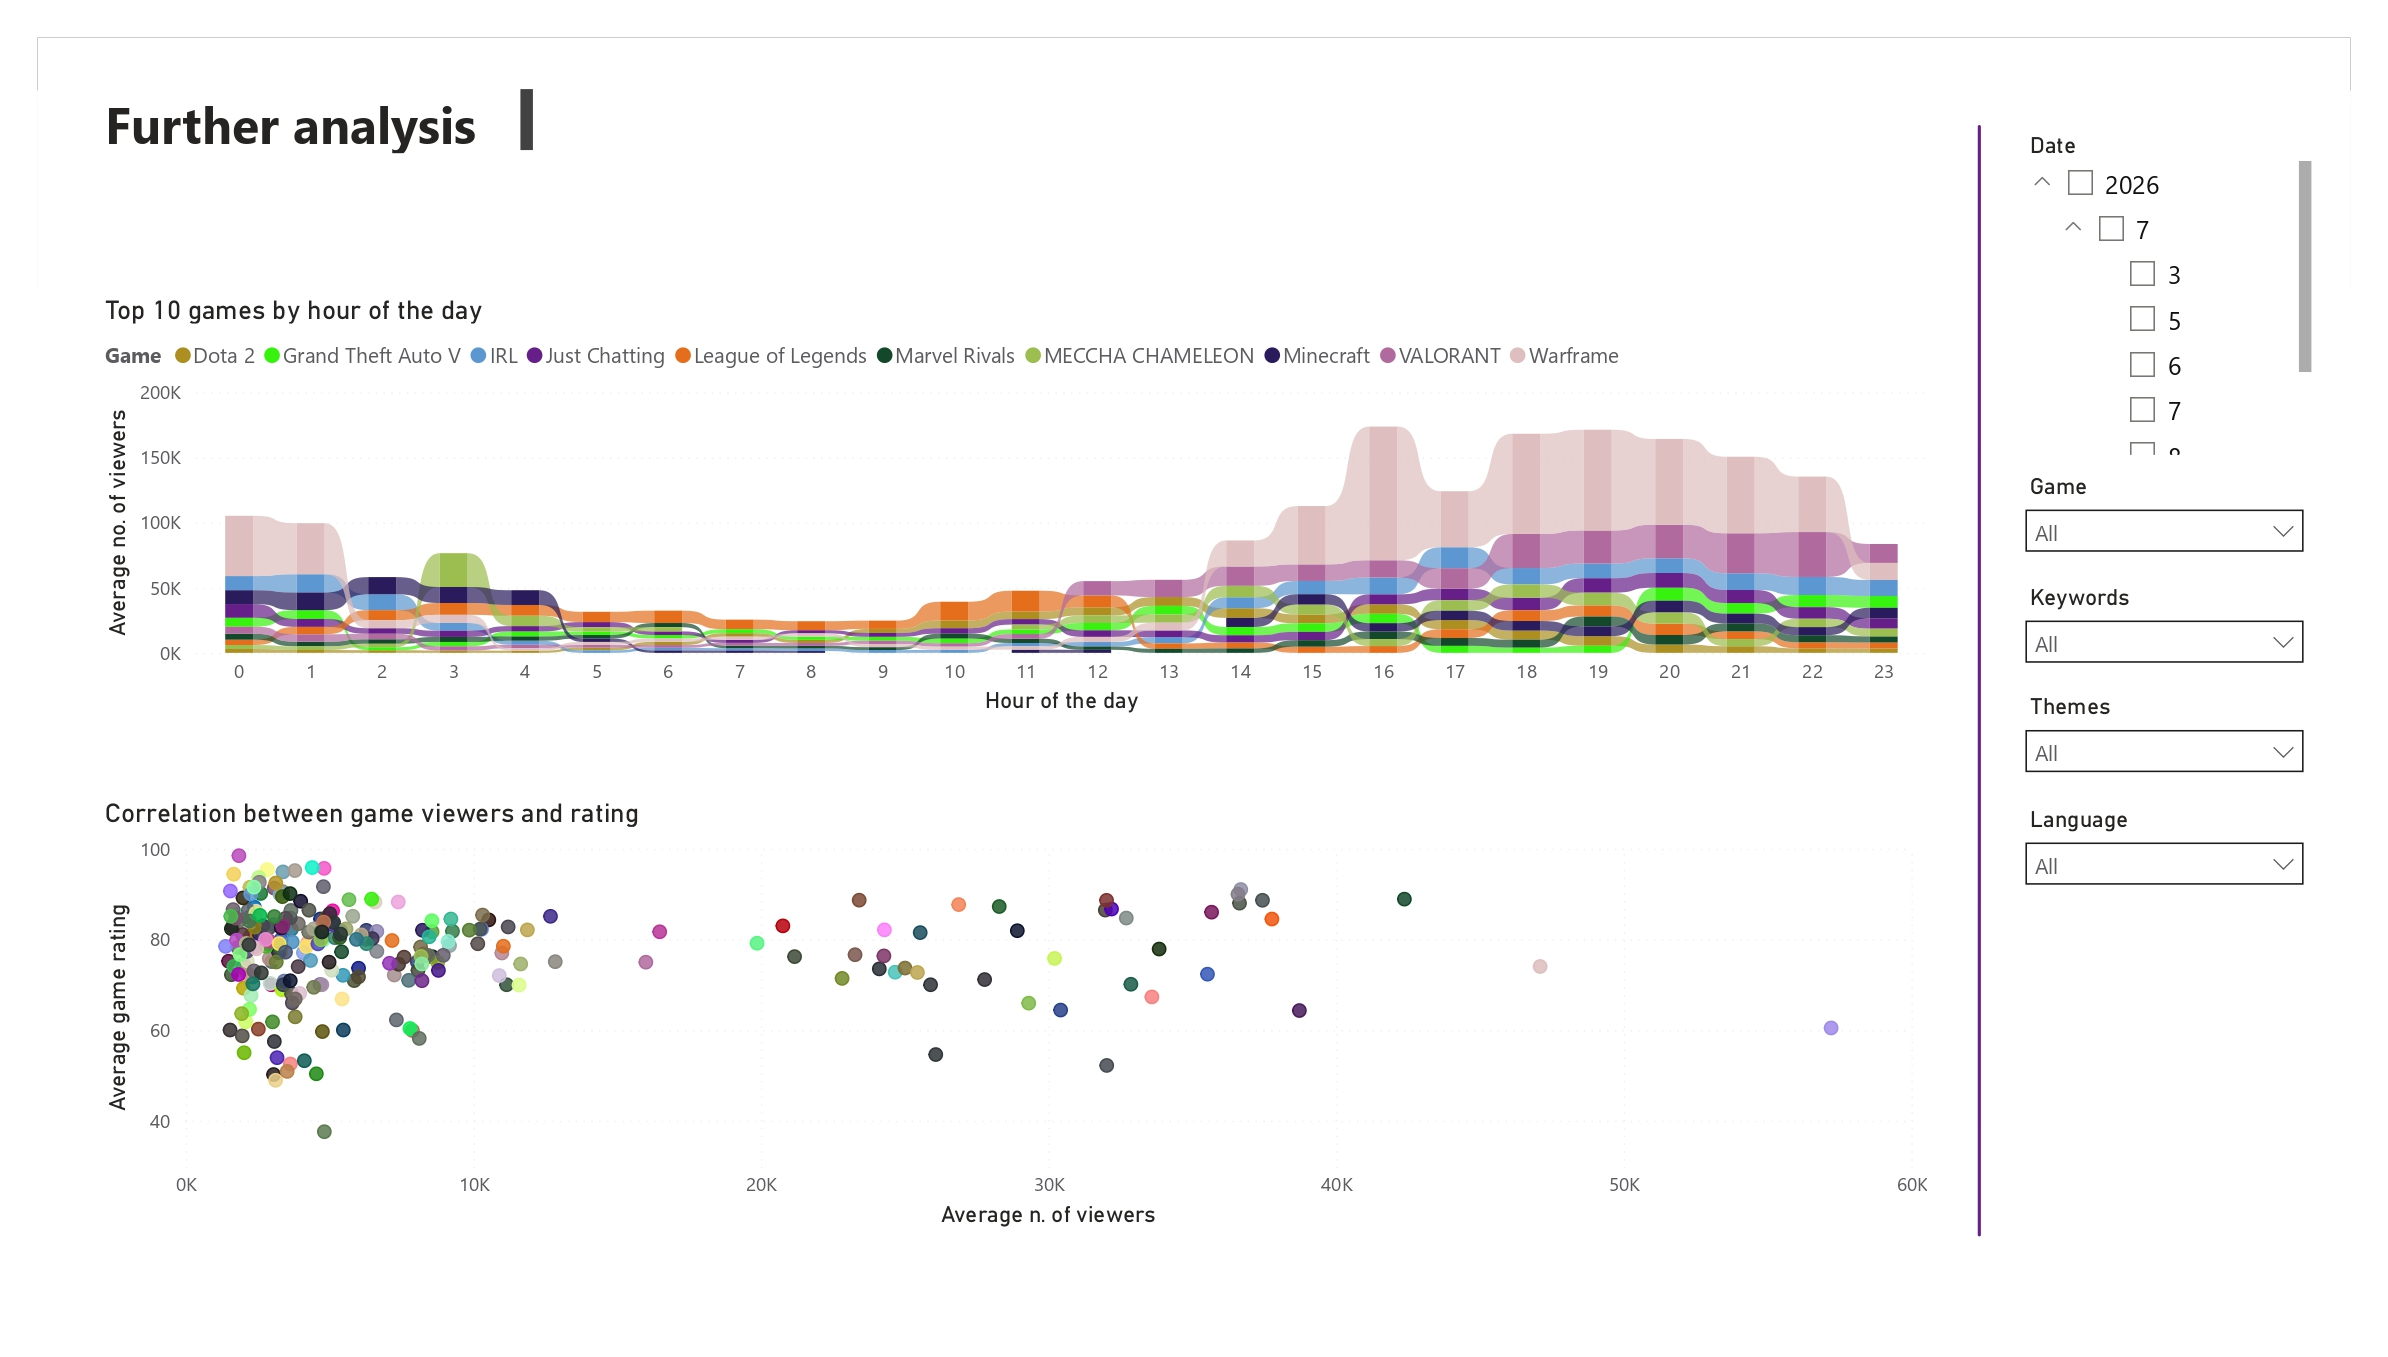

The dashboard page shown, as its layout file describes it:
{"tool":"powerbi","page":{"name":"Further analysis","canvas":[1480,820],"ordinal":3},"visuals":[{"type":"slicer","fields":{"Values":["dim_game.game_name"]},"box":[1261.6,273.9,198.7,70.7],"z":0},{"type":"slicer","fields":{"Values":["dim_date.date_year","dim_date.date_month","dim_date.date_day"]},"box":[1261.6,55.7,198.7,217.2],"z":1000},{"type":"slicer","fields":{"Values":["game_themes.themes"]},"box":[1261.6,415.3,198.7,71.7],"z":2000},{"type":"slicer","fields":{"Values":["game_keywords.keywords"]},"box":[1261.6,344.6,198.7,70.7],"z":3000},{"type":"shape","box":[1214.4,55.6,56.7,711.7],"z":4000},{"type":"textbox","box":[38,28,284,51],"z":7000},{"type":"slicer","fields":{"Values":["dim_language.language"]},"box":[1262,487,198,72],"z":8000},{"type":"ribbonChart","title":"Top 10 games by hour of the day","fields":{"Category":["fact_stream_hourly.time_hour"],"Series":["dim_game.game_name"],"Y":["fact_stream_hourly.avg_viewers"]},"box":[38,164,1176,273],"z":9000},{"type":"scatterChart","title":"Correlation between game viewers and rating","fields":{"Series":["dim_game.game_name"],"X":["fact_stream_hourly.avg_viewers"],"Y":["Sum(dim_game.total_rating)"]},"box":[38,486,1176,280],"z":10000}]}

Visuals, with their boxes on the page's 1480x820 design canvas (x1, y1, x2, y2). These are canvas units, not pixel positions in the 2388x1357 screenshot, which may show the page scaled, cropped or inside an application window:
slicer - dim_game.game_name: region(1262, 274, 1460, 345)
slicer - dim_date.date_year x dim_date.date_month: region(1262, 56, 1460, 273)
slicer - game_themes.themes: region(1262, 415, 1460, 487)
slicer - game_keywords.keywords: region(1262, 345, 1460, 415)
shape: region(1214, 56, 1271, 767)
textbox: region(38, 28, 322, 79)
slicer - dim_language.language: region(1262, 487, 1460, 559)
"Top 10 games by hour of the day" ribbonChart: region(38, 164, 1214, 437)
"Correlation between game viewers and rating" scatterChart: region(38, 486, 1214, 766)
